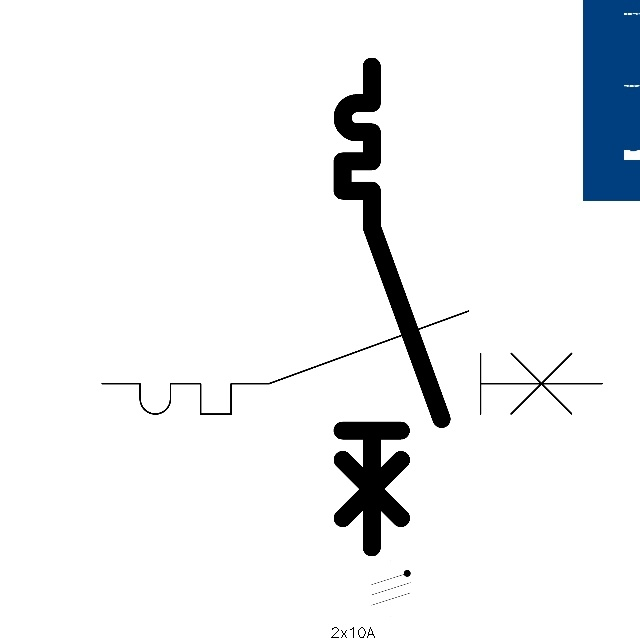interruptor_termomagnetico: (89, 298, 614, 427), (330, 54, 454, 560)
